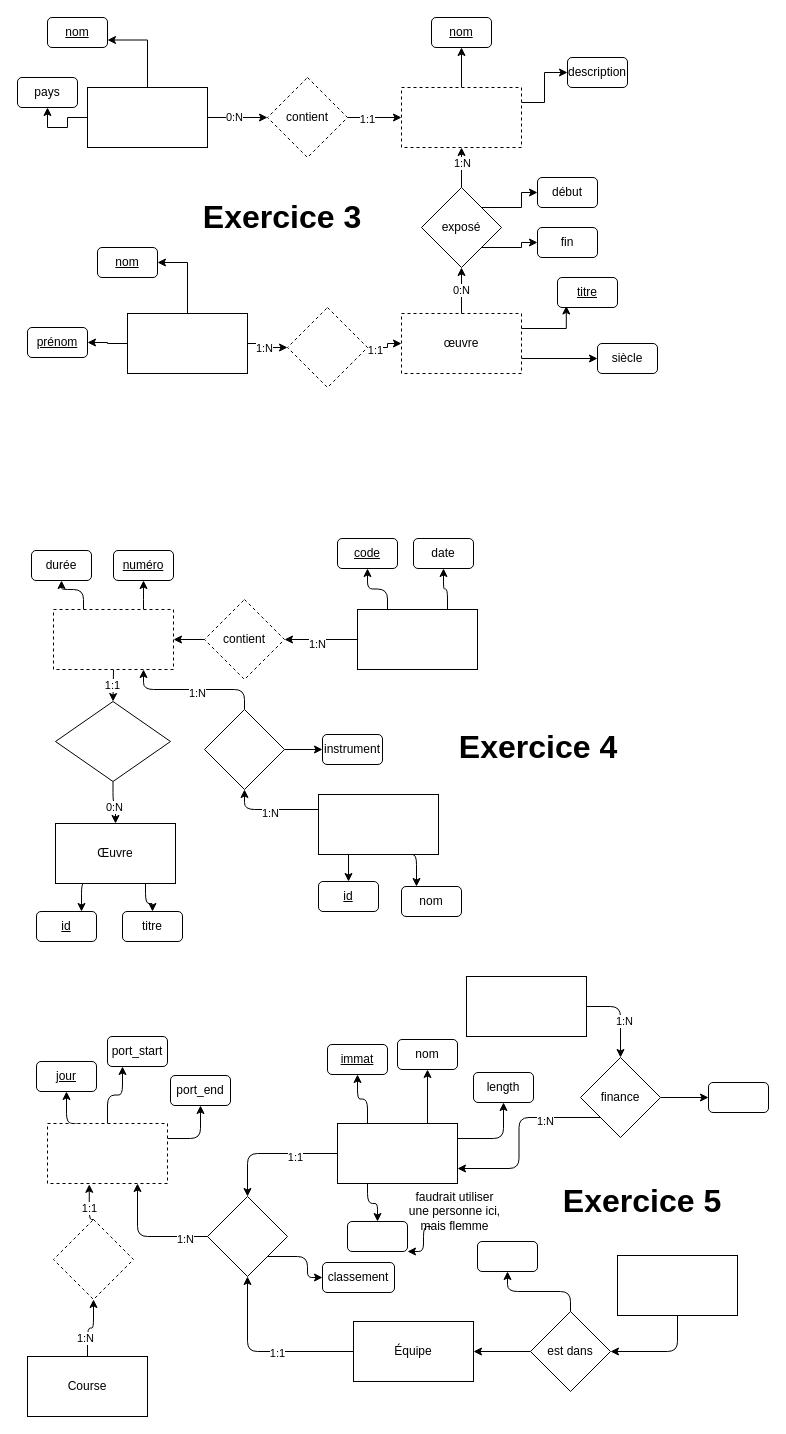
The diagram is 786 pixels wide and 1434 high, and some of its shapes have lost their labels. Each missing label, with the box of its shape:
Album: (356, 608, 478, 670)
Artiste: (126, 312, 248, 374)
Bateau: (336, 1122, 458, 1184)
composé: (52, 1218, 134, 1300)
enregistrement de: (54, 700, 170, 782)
Interprète: (318, 794, 438, 854)
joue: (204, 708, 284, 790)
montant: (708, 1082, 768, 1112)
Musée: (400, 86, 522, 148)
participe: (206, 1196, 288, 1276)
Personne: (616, 1254, 738, 1316)
Plage: (52, 608, 174, 670)
réalise: (286, 306, 368, 388)
rôle: (476, 1240, 538, 1272)
skipper: (346, 1220, 408, 1252)
Sponsor: (466, 976, 586, 1036)
Ville: (86, 86, 208, 148)
Épreuve: (46, 1122, 168, 1184)
